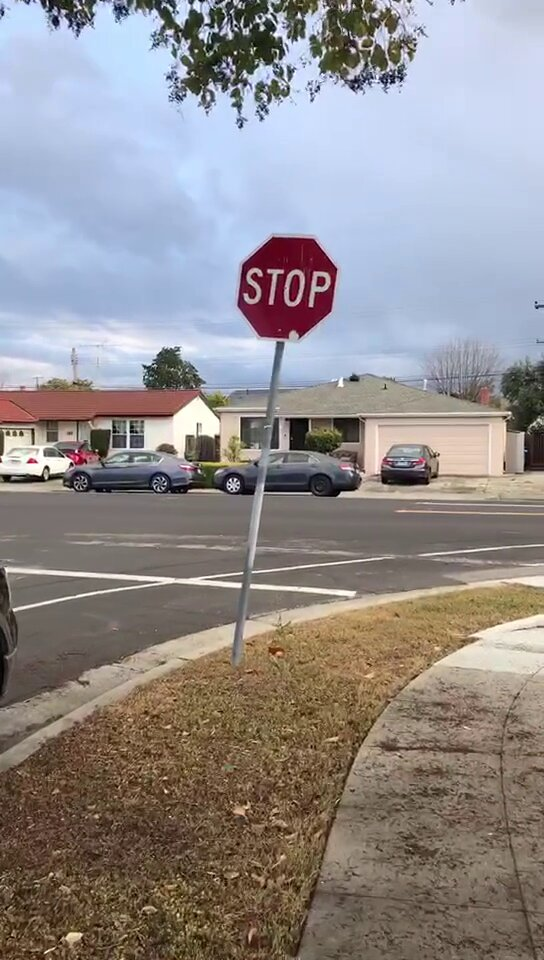stop_sign: (236, 235, 337, 342)
